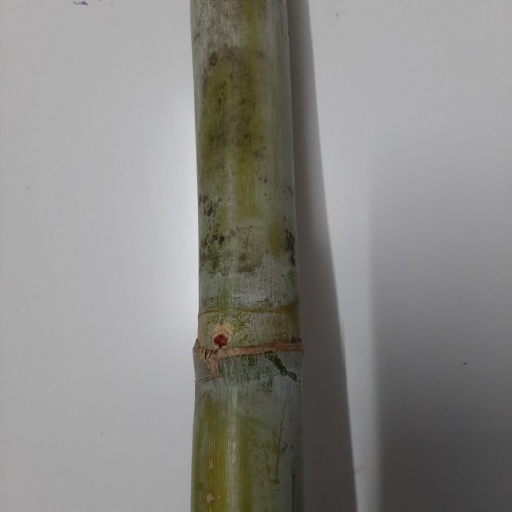Damage_Bud: (208, 322, 231, 350)
